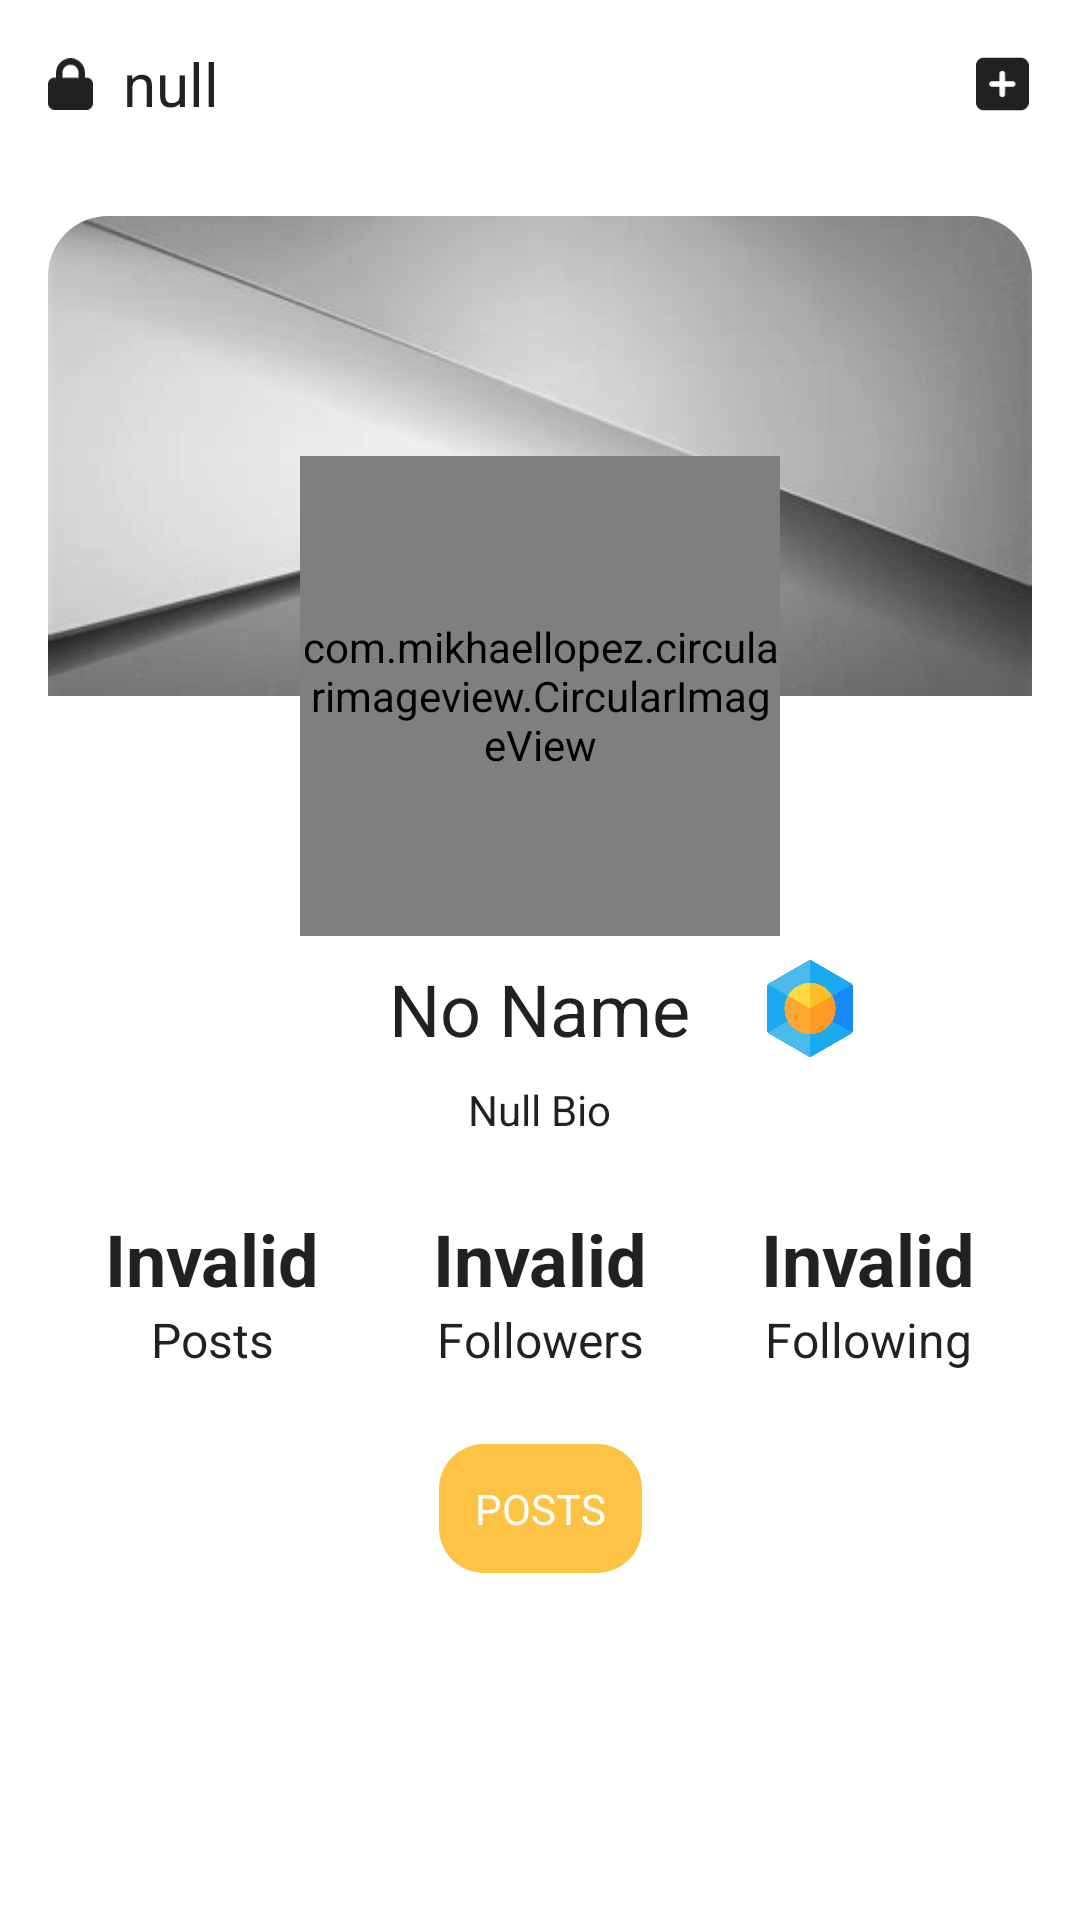

Where icons sit on this 1080*1920 app screen, as (x1, y1, x2, y2):
Create Post Button: (976, 57, 1029, 111)
lock: (48, 58, 93, 110)
